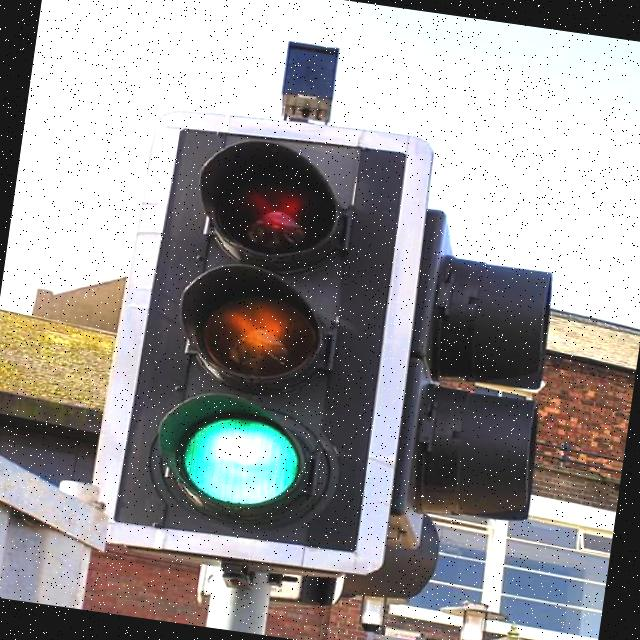Zielone swiatlo: (129, 129, 395, 544)
